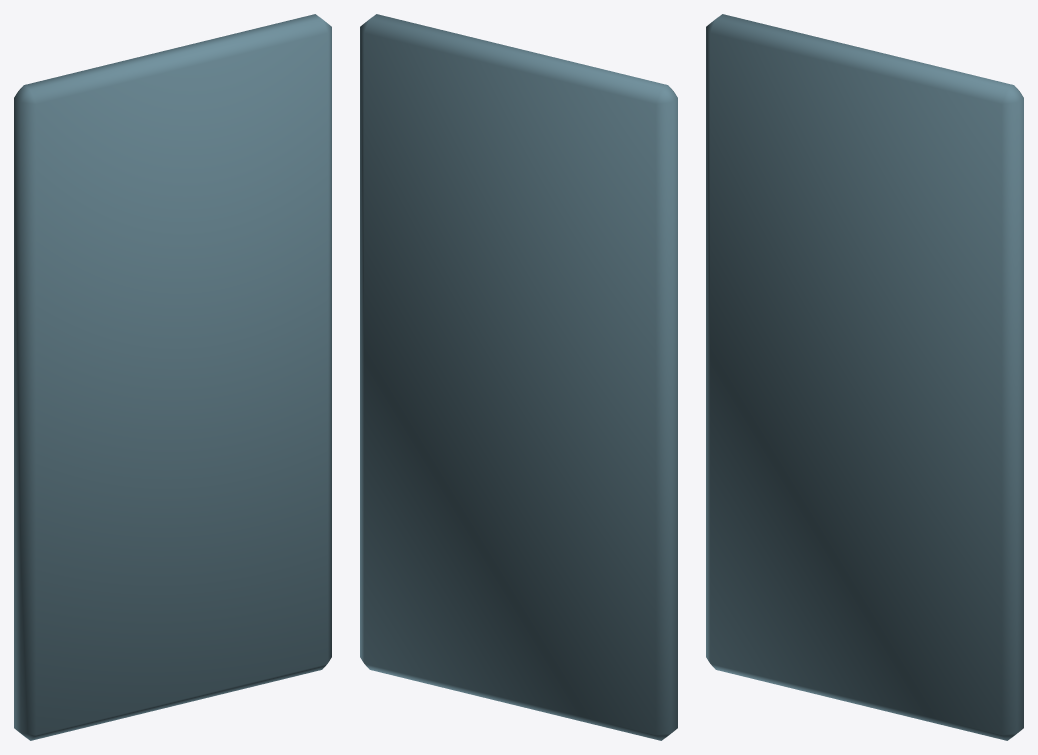
File: plaque.001.glb
3 views of the same model, side by side, from view 1: azimuth 30°, elevation 25°; view 2: azimuth 150°, elevation 25°; view 3: azimuth 330°, elevation 25° (orthographic).
Visible parts, largest first — view 1: plaque.001; view 2: plaque.001; view 3: plaque.001.
Boxes of the visible parts, x1,y1,x2,y2 form: plaque.001: (14, 14, 331, 740); plaque.001: (360, 14, 677, 740); plaque.001: (706, 14, 1023, 740).
Size of the model in its own units: 8 by 16 by 0.8.
